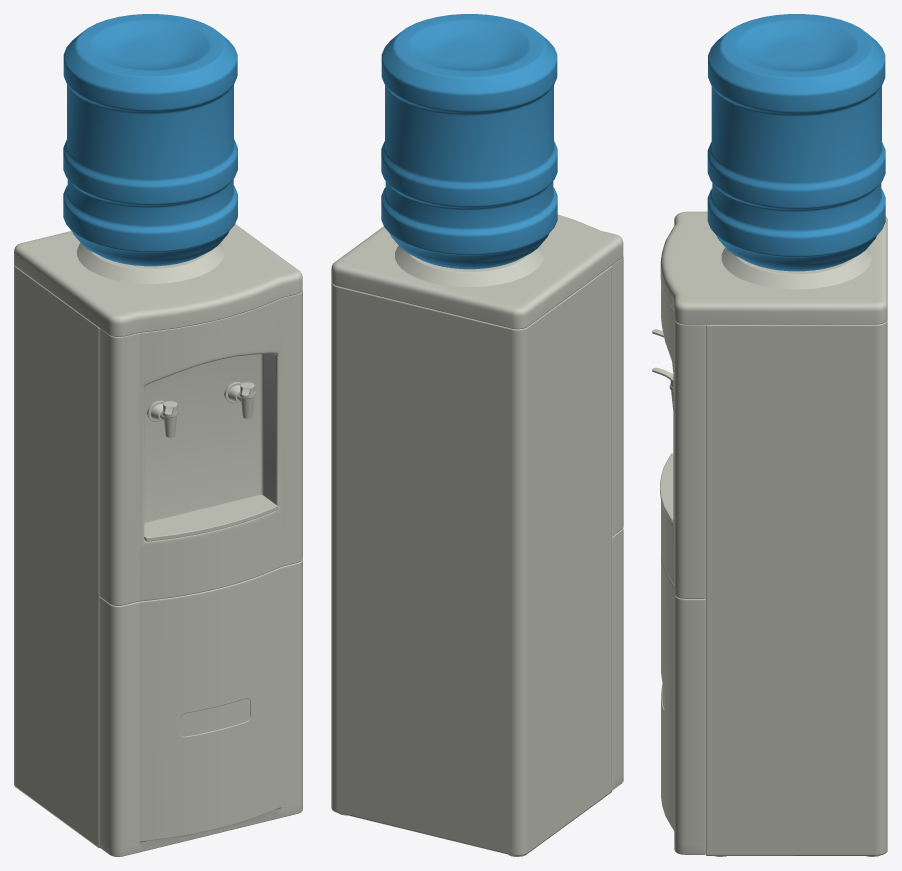
The model's file is Water Cooler.fbx.
3 renders of one model, left to right at view 1: azimuth 30°, elevation 25°; view 2: azimuth 150°, elevation 25°; view 3: azimuth 270°, elevation 25°, orthographic. The views are drawn at different scales.
Parts seen in each view (by area): view 1: Water_cooler; view 2: Water_cooler; view 3: Water_cooler.
Boxes of the visible parts, x1,y1,x2,y2 form: Water_cooler: [14, 14, 302, 856]; Water_cooler: [331, 14, 623, 856]; Water_cooler: [652, 14, 887, 856].
Size of the model in its own units: 42.88 by 159 by 44.43.
